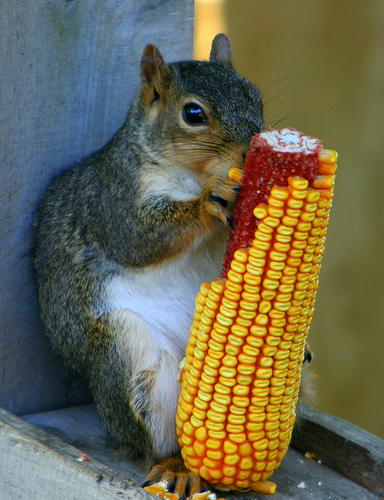corn: (173, 123, 340, 492)
